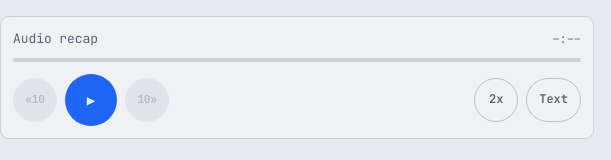
Test: AudioBite › cycles 1x -> 1.25x -> 1.5x -> 2x -> 1x on tap and remembers the choice
Click the button named "playback speed" at point(496, 100), box [474, 78, 518, 122]
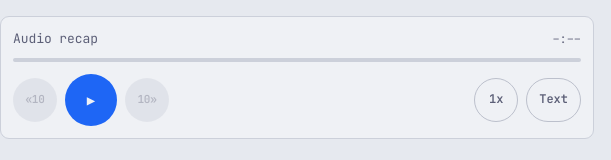
expect the button named "playback speed" reads "1x": met
Click the button named "playback speed" at point(496, 100), box [474, 78, 518, 122]
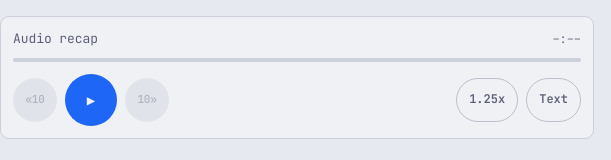
expect the button named "playback speed" reads "1.25x": met
Click the button named "playback speed" at point(487, 100), box [456, 78, 518, 122]
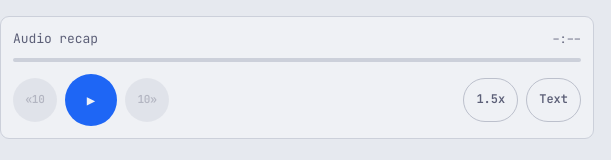
expect the button named "playback speed" reads "1.5x": met
Click the button named "playback speed" at point(491, 100), box [463, 78, 518, 122]
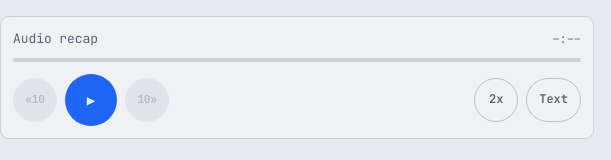
expect the button named "playback speed" reads "2x": met, box [474, 78, 518, 122]
